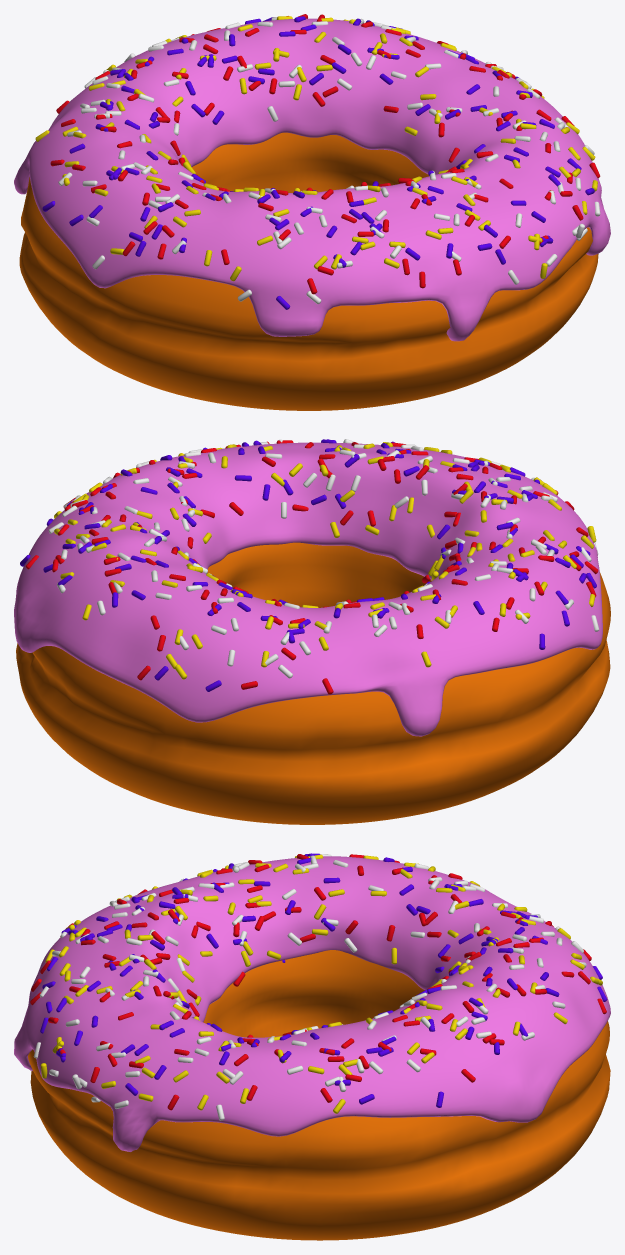
File: Doughnut.fbx
3 views of the same model, one above another, from view 1: azimuth 30°, elevation 25°; view 2: azimuth 150°, elevation 25°; view 3: azimuth 270°, elevation 25° (orthographic). The views are drawn at different scales.
Parts seen in each view (by area): view 1: Icing, Torus; view 2: Icing, Torus; view 3: Icing, Torus.
Part boxes in pixels (x1,y1,x2,y2): Icing: [14, 18, 610, 341]; Torus: [19, 132, 598, 410]; Icing: [14, 442, 602, 736]; Torus: [16, 542, 610, 824]; Icing: [14, 856, 610, 1151]; Torus: [28, 950, 610, 1240].
Size of what is drawn, in the model's own units: 14.59 by 5.91 by 15.1.
